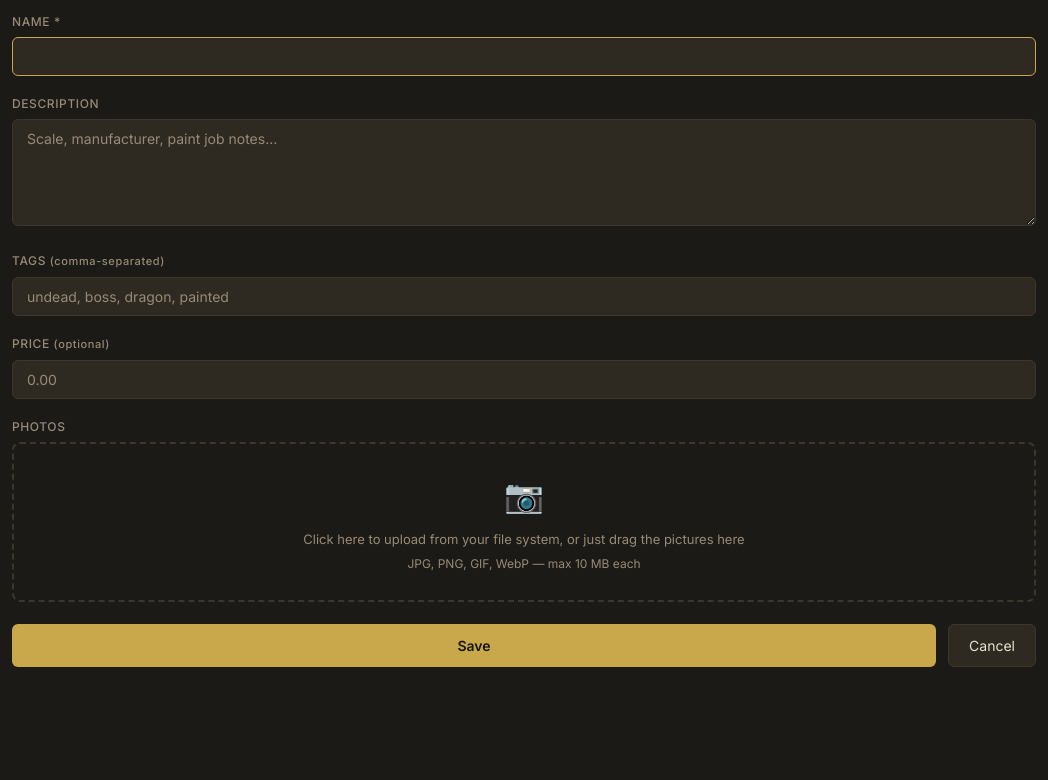
it: MiniForm › treats a name made only of invisible characters as blank
This screenshot has width=1048, height=780.
Click the button "Save" at (474, 645), box [12,624,936,667]
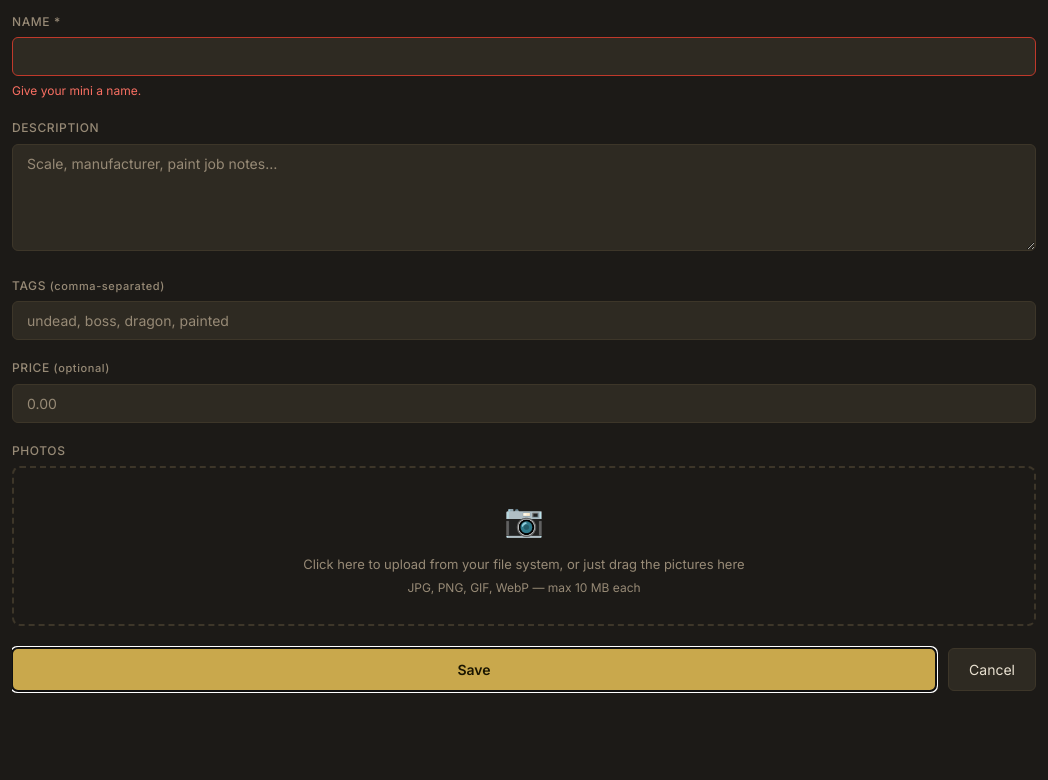
Check: the text "Give your mini a name." is shown, box [12,83,141,98]
